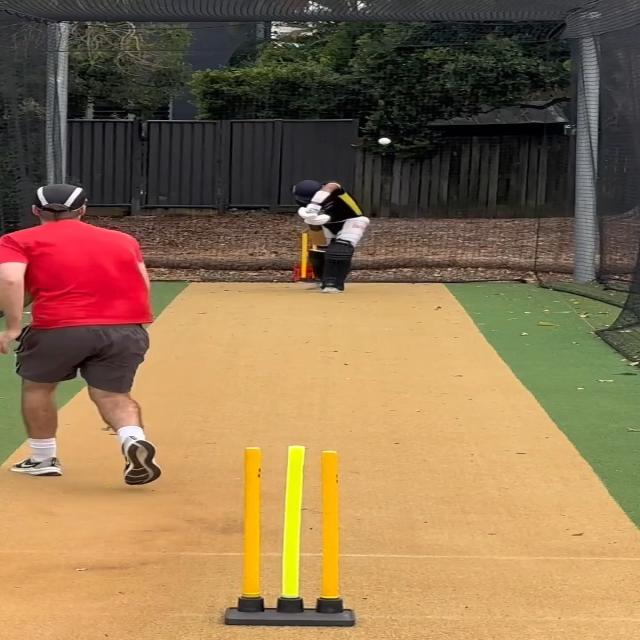ball: (377, 138, 392, 146)
stump: (223, 445, 354, 627)
